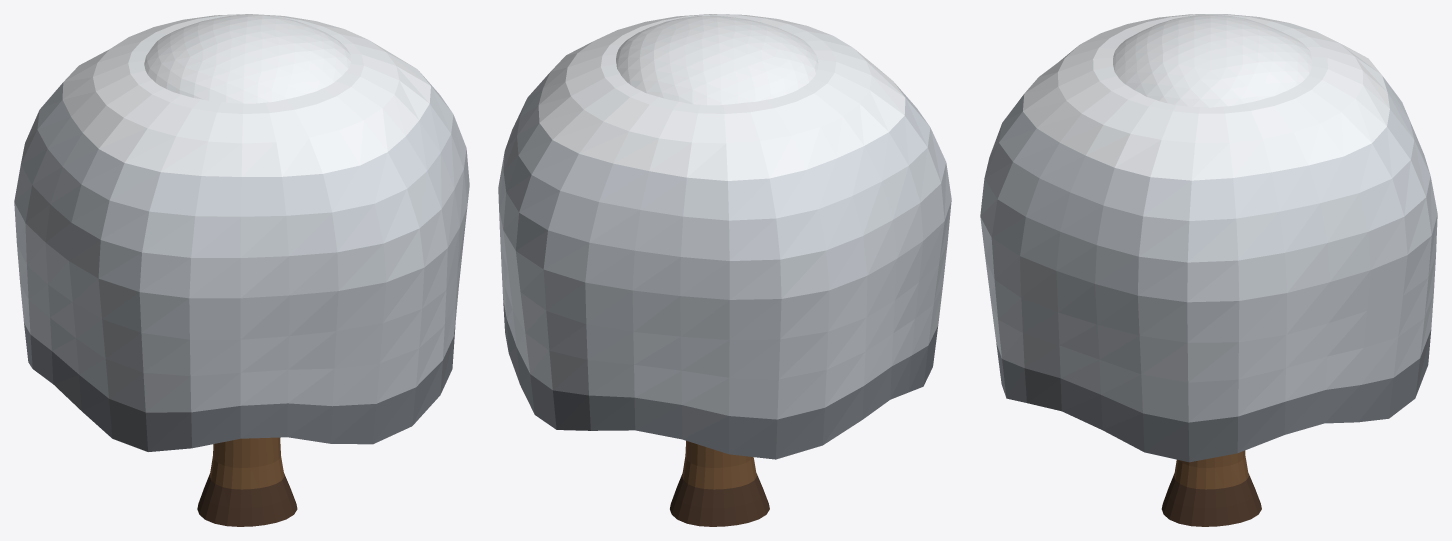
Rendered from WillowTreeFar.obj.
The picture shows the model from 3 angles, left to right: view 1: azimuth 30°, elevation 25°; view 2: azimuth 150°, elevation 25°; view 3: azimuth 270°, elevation 25°; orthographic projection.
Bounding box in the file's own units: 10.19 × 11.72 × 10.29.
